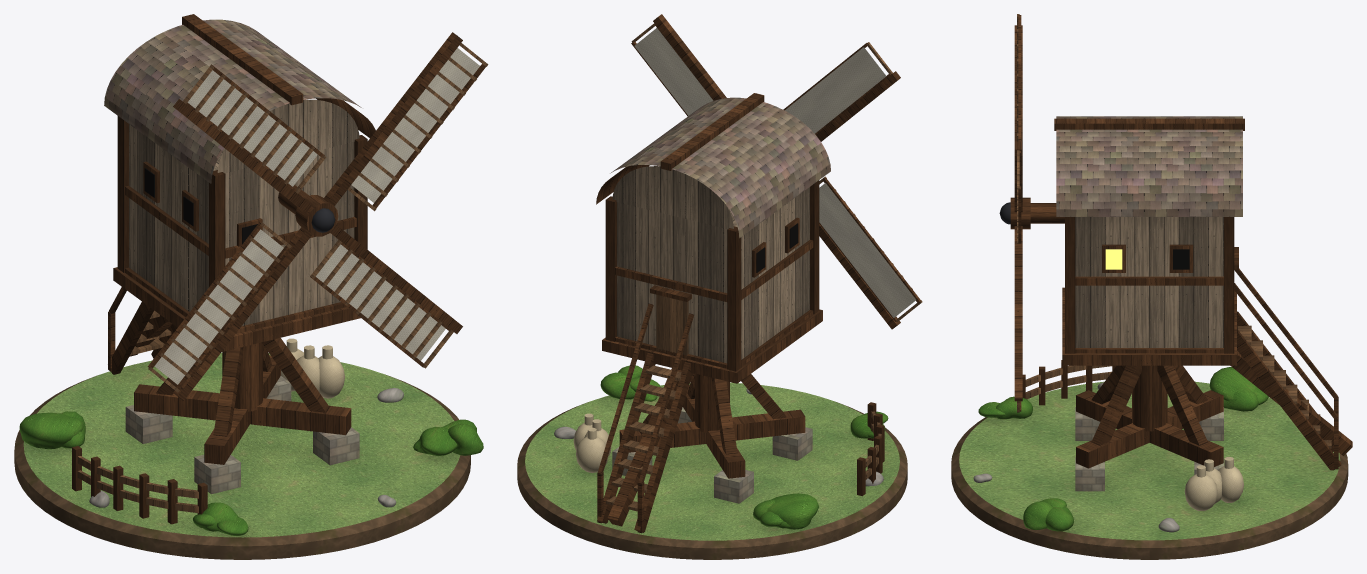
Rendered from wiatrak.glb.
The picture shows the model from 3 angles, left to right: view 1: azimuth 30°, elevation 25°; view 2: azimuth 150°, elevation 25°; view 3: azimuth 270°, elevation 25°; orthographic projection. The views are drawn at different scales.
Visible parts, largest first — view 1: wiatrak, smigla; view 2: wiatrak, smigla; view 3: wiatrak, smigla.
Boxes of the visible parts, bbox=[...] form: wiatrak: bbox=[14, 14, 483, 559]; smigla: bbox=[147, 32, 488, 400]; wiatrak: bbox=[517, 93, 907, 559]; smigla: bbox=[631, 14, 922, 329]; wiatrak: bbox=[951, 116, 1352, 559]; smigla: bbox=[999, 14, 1030, 412].
Size of the model in its own units: 1 by 1.16 by 1.01.
Materials: 14 (12 with a texture image).
